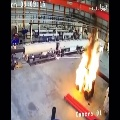fire: (75, 41, 99, 92)
